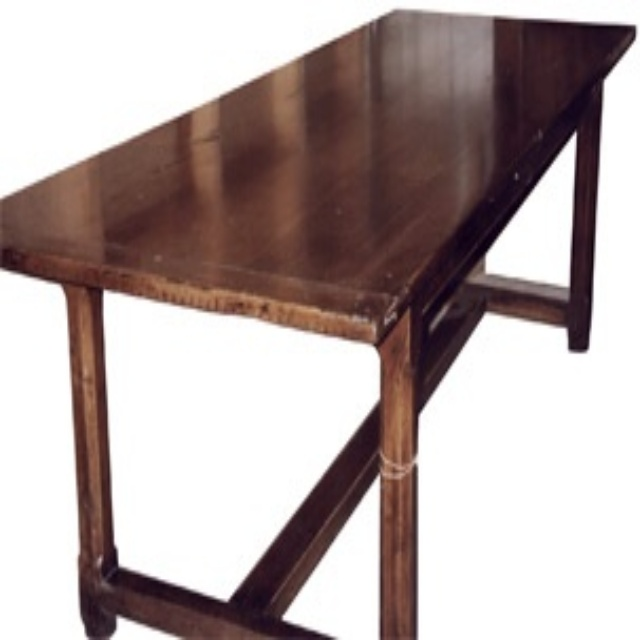obstacle: (0, 3, 638, 634)
